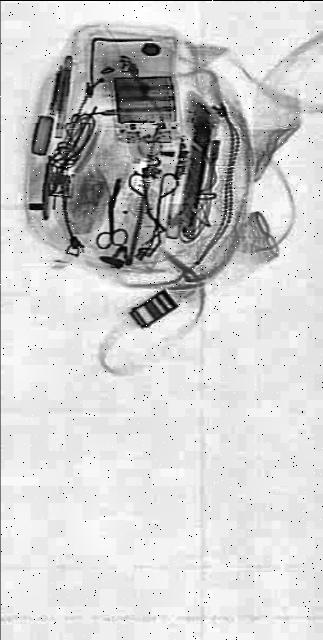Scissors: (96, 204, 128, 252)
